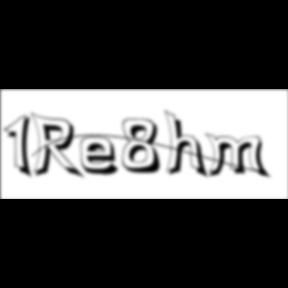1: (4, 114, 38, 182)
8: (122, 117, 168, 176)
R: (30, 112, 88, 182)
e: (81, 135, 127, 178)
h: (164, 108, 212, 182)
m: (205, 132, 273, 181)
